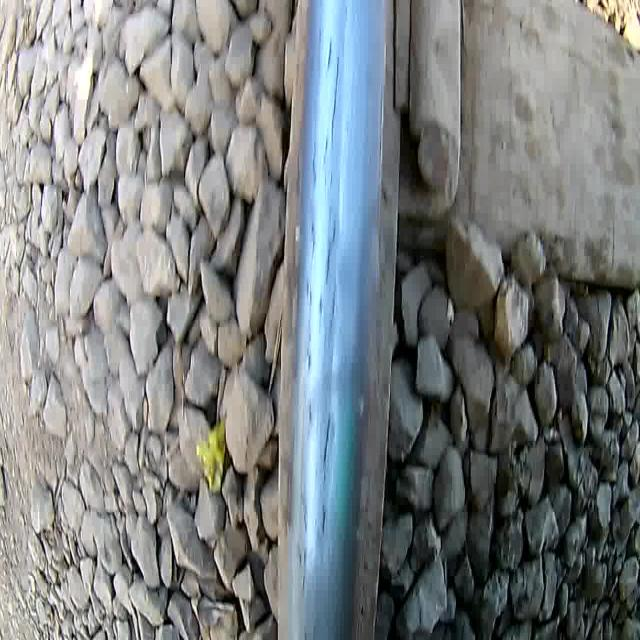Cracks: (320, 29, 342, 198), (318, 404, 334, 542), (322, 200, 340, 288), (304, 274, 317, 384), (294, 542, 310, 606), (327, 278, 338, 342), (308, 209, 318, 273), (304, 391, 315, 447), (299, 486, 311, 535), (310, 133, 319, 198)
